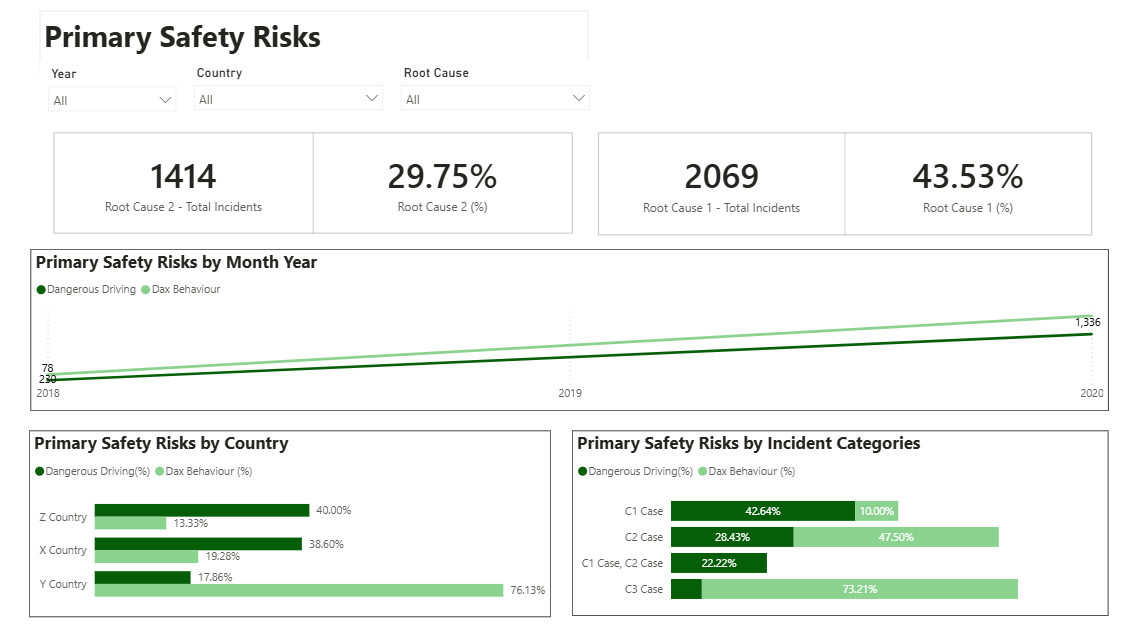

The page's visual inventory and layout, read from the dashboard file:
{"tool":"powerbi","page":{"name":"Primary Safety Risk","canvas":[1280,720],"ordinal":1},"visuals":[{"type":"cardVisual","fields":{"Data":["Data.NM_RootCause_Dax Behaviour","Data.NM_RootCause_Dax Behaviour (%)"]},"box":[652,136,584,148],"z":0},{"type":"cardVisual","fields":{"Data":["Data.NM_RootCause_Dangerous Driving","Data.NM_RootCause_Dangerous Driving(%)"]},"box":[46.8,136.2,612.8,146.8],"z":1000},{"type":"lineChart","title":"Primary Safety Risks by Month Year","fields":{"Category":["DimDate.Year","DimDate.Month Year"],"Y":["Data.NM_RootCause_Dangerous Driving","Data.NM_RootCause_Dax Behaviour"]},"box":[38,284,1198,180],"z":2000},{"type":"clusteredBarChart","title":"Primary Safety Risks by Country","fields":{"Category":["Data.Country"],"Y":["Data.NM_RootCause_Dangerous Driving(%)","Data.NM_RootCause_Dax Behaviour (%)"]},"box":[37.1,484.3,580,207.1],"z":3000},{"type":"barChart","title":"Primary Safety Risks by Incident Categories","fields":{"Category":["Data.Incident Categories"],"Y":["Data.NM_RootCause_Dangerous Driving(%)","Data.NM_RootCause_Dax Behaviour (%)"]},"box":[640,484.3,595.7,205.7],"z":4000},{"type":"textbox","box":[48.6,18,610,74.3],"z":5000},{"type":"slicer","fields":{"Values":["DimDate.Year"]},"box":[48.5,74.2,162,68.1],"z":5001},{"type":"slicer","fields":{"Values":["Data.Root Cause"]},"box":[440,74,230,68],"z":5002},{"type":"slicer","fields":{"Values":["Data.Country"]},"box":[210,74,230,68],"z":5003}]}

Visuals, with their boxes in screenshot pixels (x1, y1, x2, y2), scaled from the page's 1280x720 canvas onto the 1129x630 screenshot:
cardVisual - Data.NM_RootCause_Dax Behaviour x Data.NM_RootCause_Dax Behaviour (%): BBox(575, 119, 1090, 248)
cardVisual - Data.NM_RootCause_Dangerous Driving x Data.NM_RootCause_Dangerous Driving(%): BBox(41, 119, 582, 248)
"Primary Safety Risks by Month Year" lineChart: BBox(34, 248, 1090, 406)
"Primary Safety Risks by Country" clusteredBarChart: BBox(33, 424, 544, 605)
"Primary Safety Risks by Incident Categories" barChart: BBox(564, 424, 1090, 604)
textbox: BBox(43, 16, 581, 81)
slicer - DimDate.Year: BBox(43, 65, 186, 125)
slicer - Data.Root Cause: BBox(388, 65, 591, 124)
slicer - Data.Country: BBox(185, 65, 388, 124)
